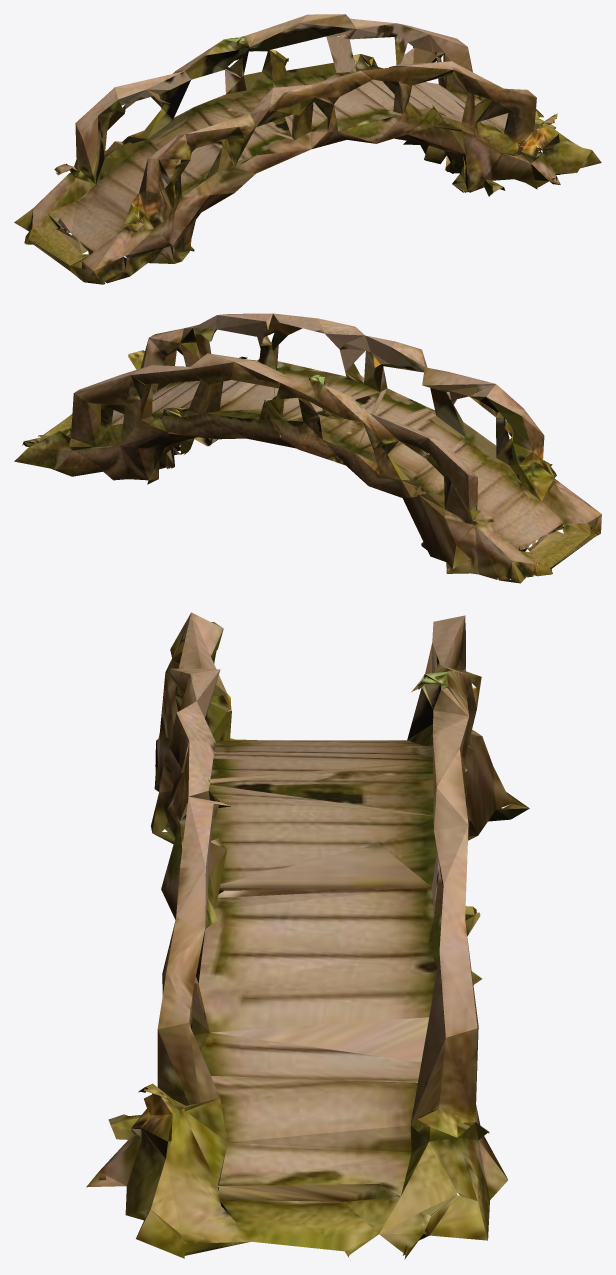
The model's file is fairy_root_bridge_1117.glb.
The picture shows the model from 3 angles, top to bottom: view 1: azimuth 30°, elevation 25°; view 2: azimuth 150°, elevation 25°; view 3: azimuth 270°, elevation 25°; orthographic projection. The views are drawn at different scales.
Parts seen in each view (by area): view 1: world; view 2: world; view 3: world.
Part boxes in pixels (x1,y1,x2,y2): world: [14, 14, 601, 284]; world: [14, 313, 601, 583]; world: [86, 612, 529, 1259].
Size of the model in its own units: 3.67 by 1 by 1.35.
1 material, 1 textured.
